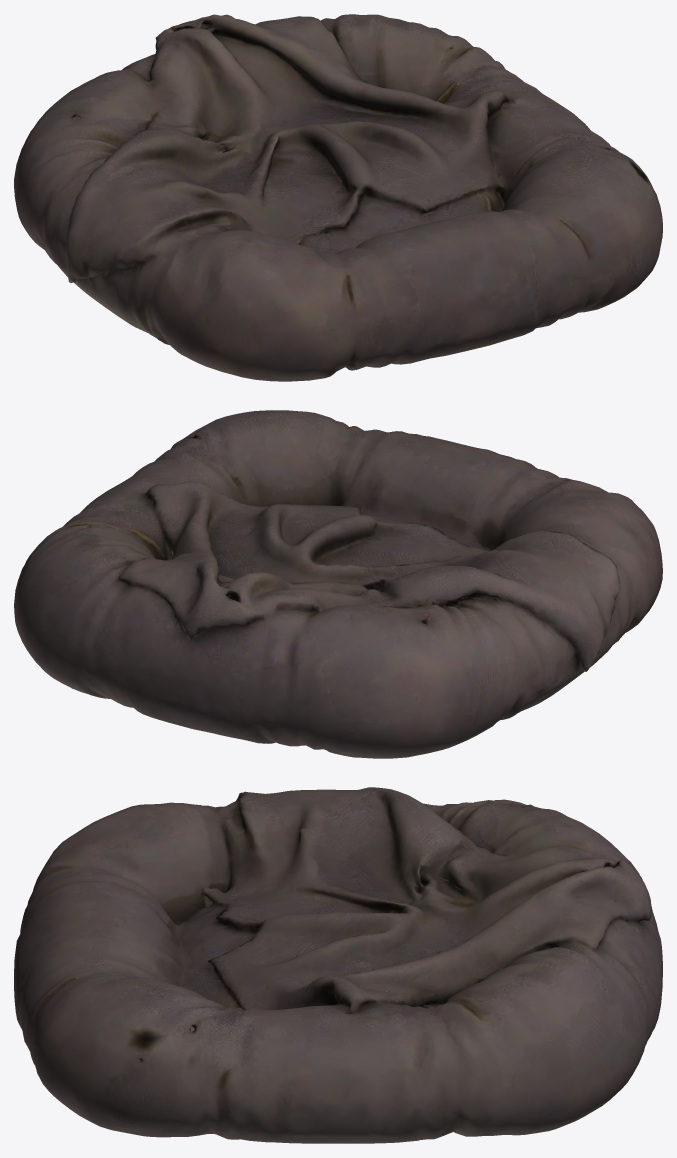
The model's file is pillow.glb.
3 renders of one model, top to bottom at view 1: azimuth 30°, elevation 25°; view 2: azimuth 150°, elevation 25°; view 3: azimuth 270°, elevation 25°, orthographic. The views are drawn at different scales.
Parts seen in each view (by area): view 1: Mesh_0.002; view 2: Mesh_0.002; view 3: Mesh_0.002.
Boxes of the visible parts, x1,y1,x2,y2 form: Mesh_0.002: [14, 14, 662, 381]; Mesh_0.002: [14, 410, 662, 758]; Mesh_0.002: [14, 787, 662, 1143].
Bounding box in the file's own units: 1.99 × 0.5703 × 2.
1 material, 1 textured.
